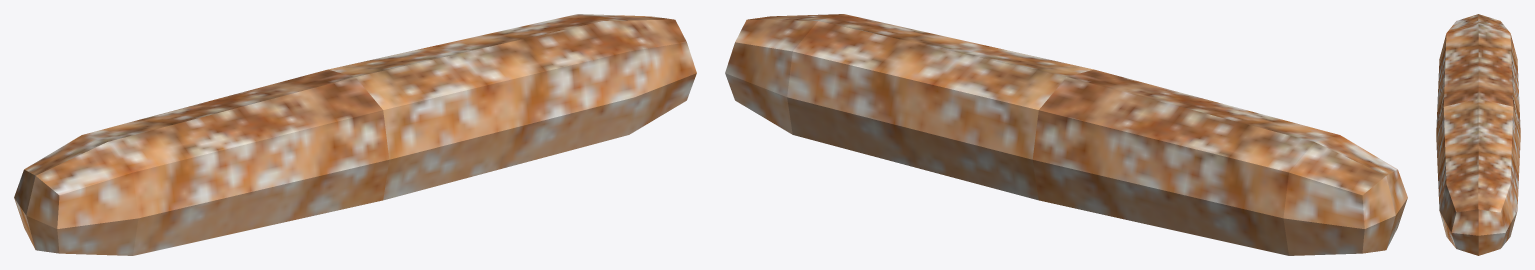
Rendered from honey-oat.fbx.
3 views of the same model, side by side, from view 1: azimuth 30°, elevation 25°; view 2: azimuth 150°, elevation 25°; view 3: azimuth 270°, elevation 25° (orthographic). The views are drawn at different scales.
Parts seen in each view (by area): view 1: honey-oat; view 2: honey-oat; view 3: honey-oat.
Part boxes in pixels (x1,y1,x2,y2): honey-oat: (14, 14, 696, 255); honey-oat: (725, 14, 1407, 255); honey-oat: (1436, 14, 1520, 255).
Bounding box in the file's own units: 1.17 × 0.2082 × 0.1968.
